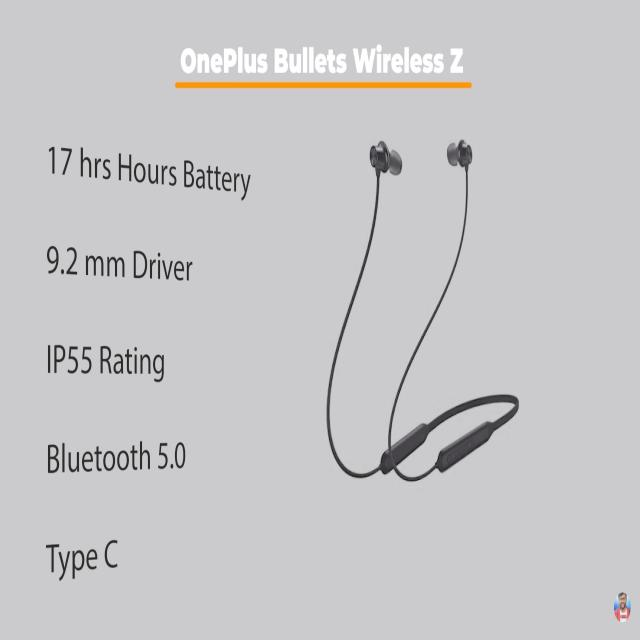Neckband: (324, 138, 520, 484)
